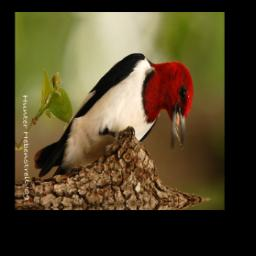Woodpecker: (31, 49, 195, 178)
